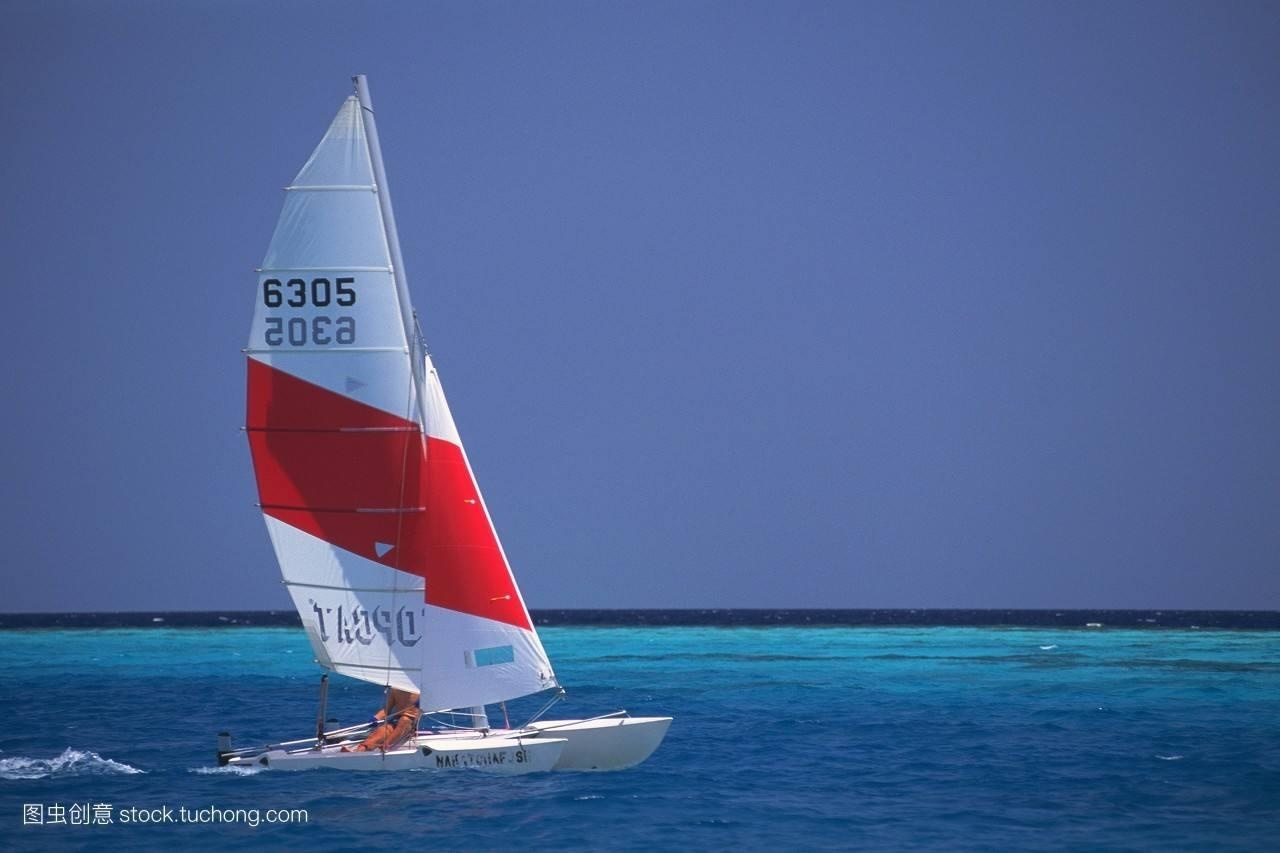fanchuan: (211, 67, 677, 776)
